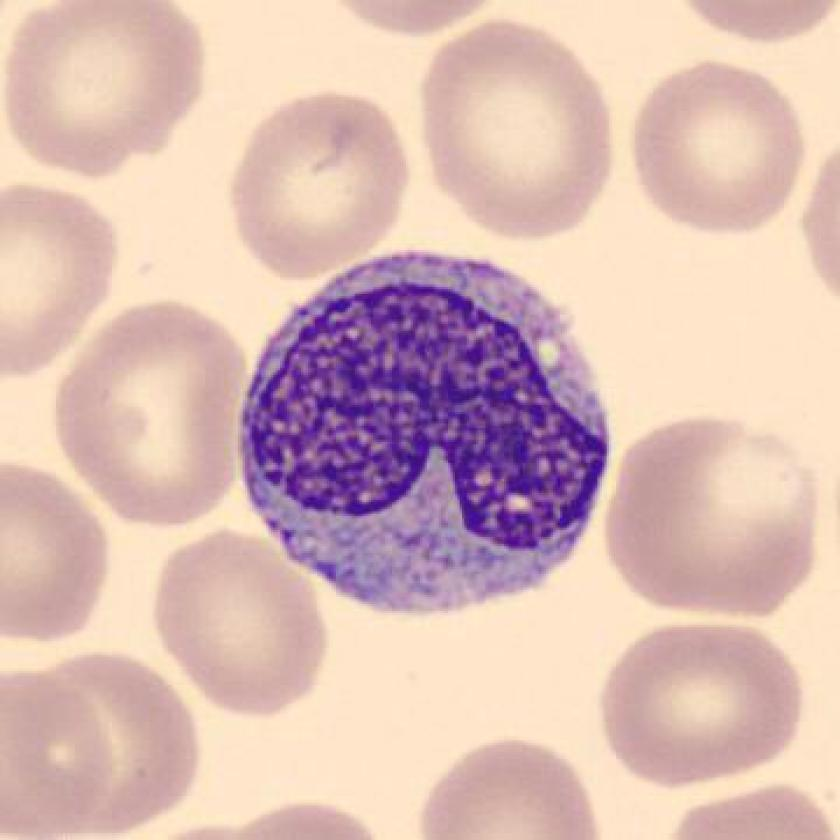monocyte: (218, 235, 633, 626)
